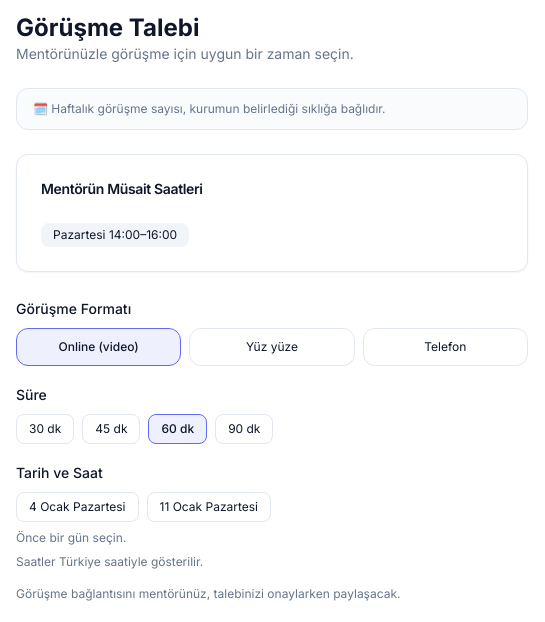
Test case: BookMeeting — availability null-safety regression › K-05b: KATI mentörde yalnız müsait saatler seçilebilir › yalnız blok içi başlangıç saatleri (60 dk süreyle) listelenir, blok dışı saat listede yok
Click the button "4 Ocak Pazartesi".
click(77, 506)  # box [16,492,138,522]
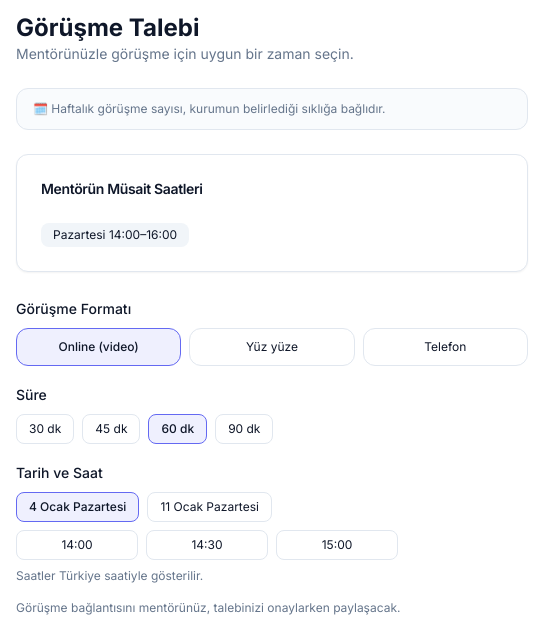
Check: the buttons read "14:00", "14:30", "15:00", in this order, box [16,530,138,560]; [146,530,268,560]; [276,530,398,560]
